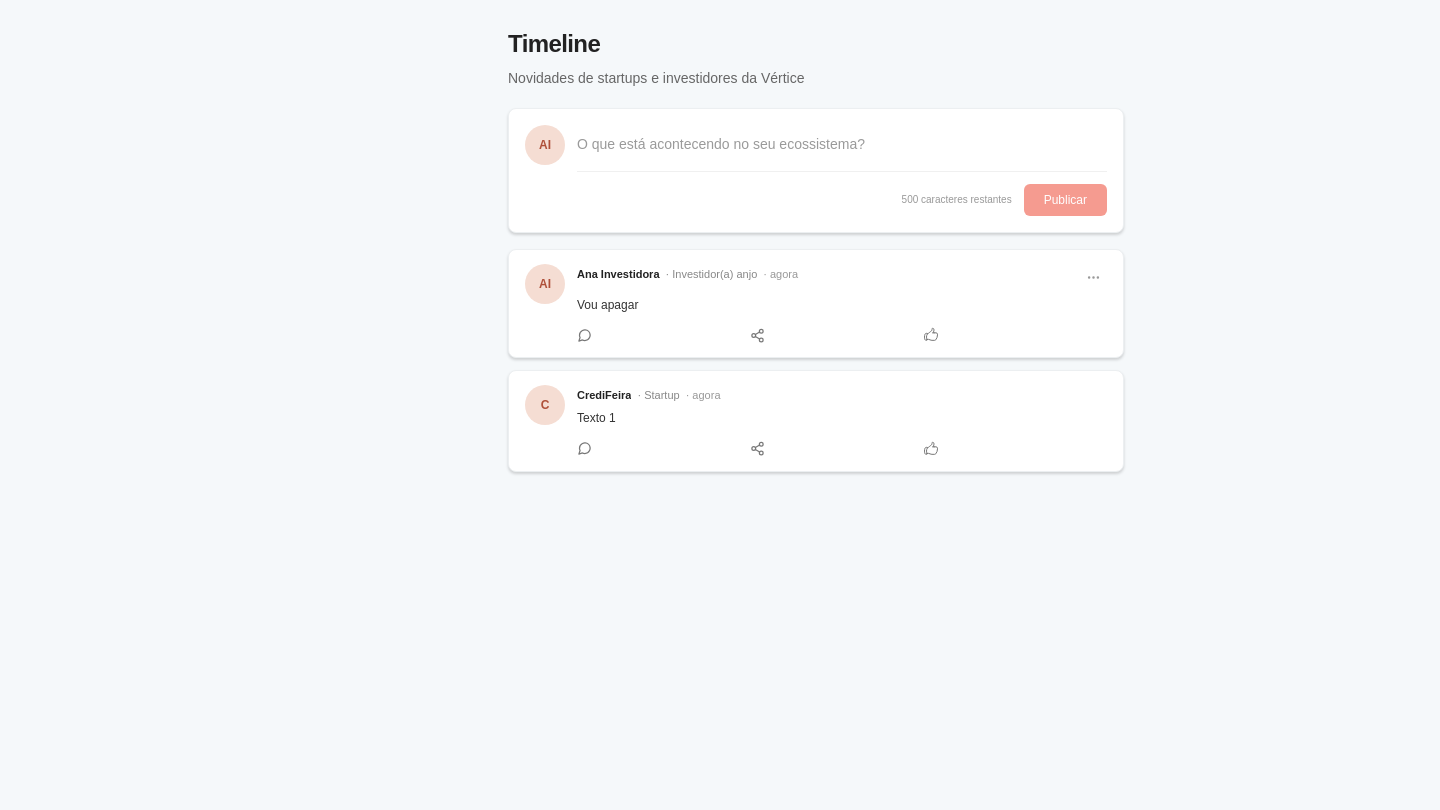
interações › exclui a própria publicação depois de confirmar
Click the button named "Mais opções".
click(1094, 277)  # box [1080,264,1107,291]
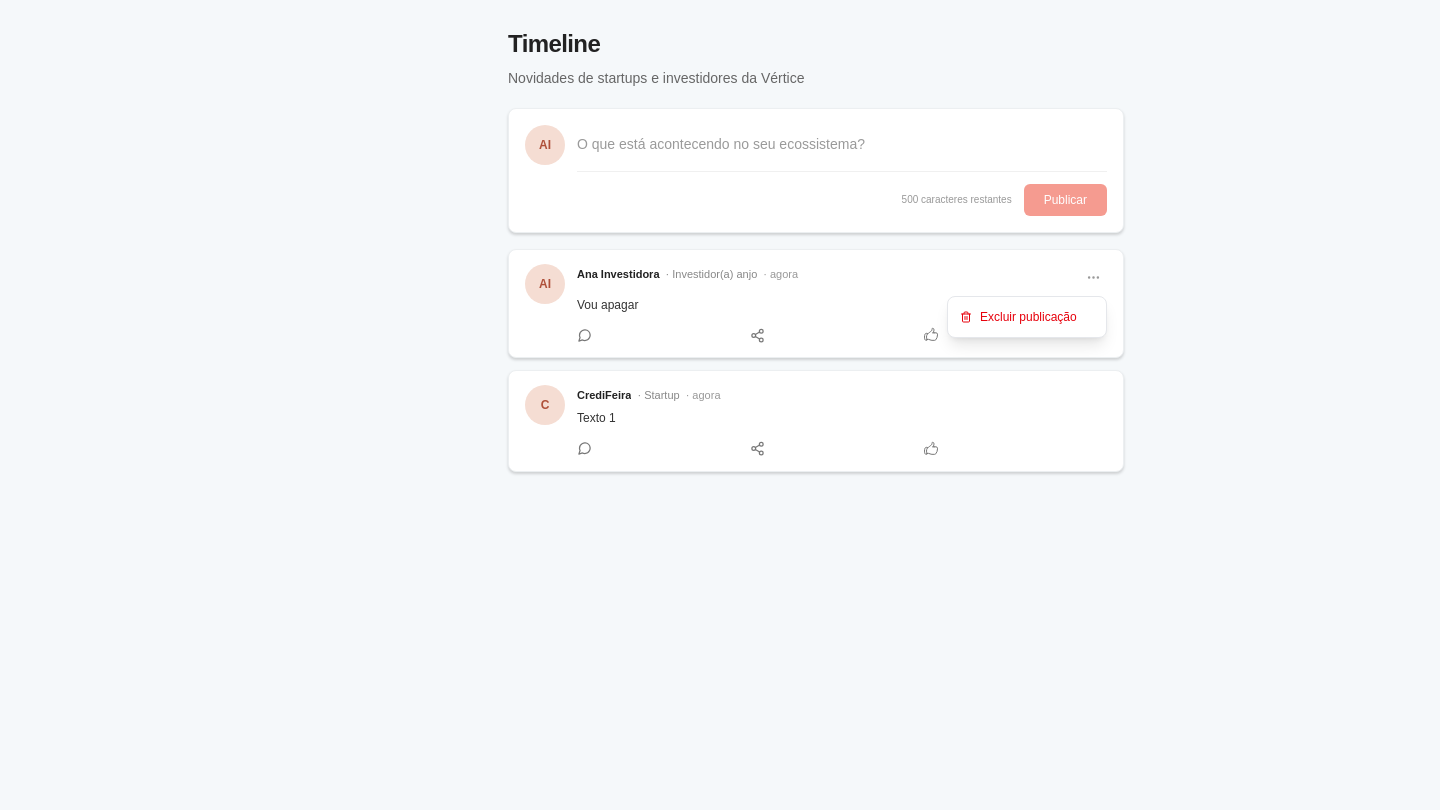
Click the menu item "Excluir publicação".
click(1027, 317)  # box [948,301,1106,333]
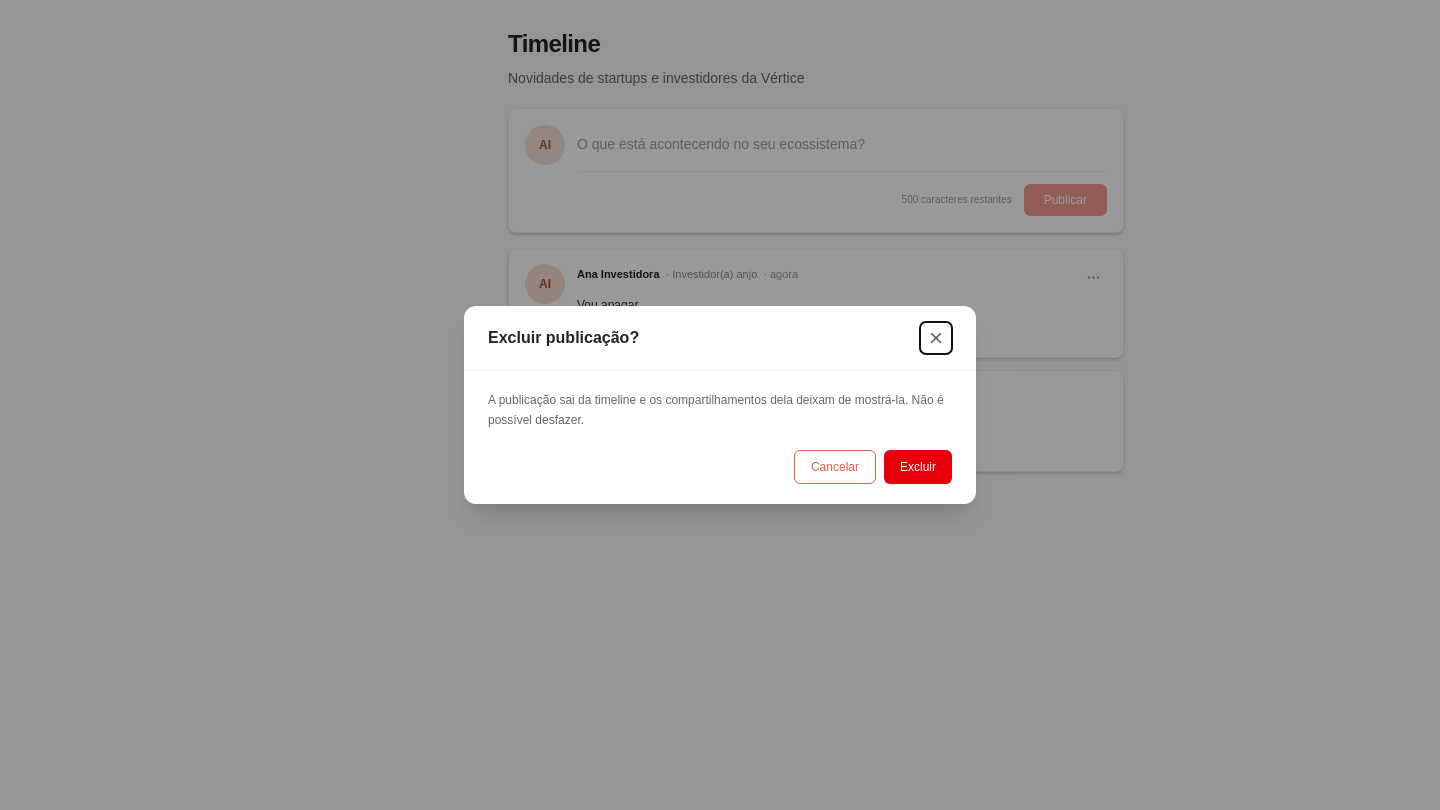
Click the button "Excluir".
click(918, 467)  # box [884,450,952,484]
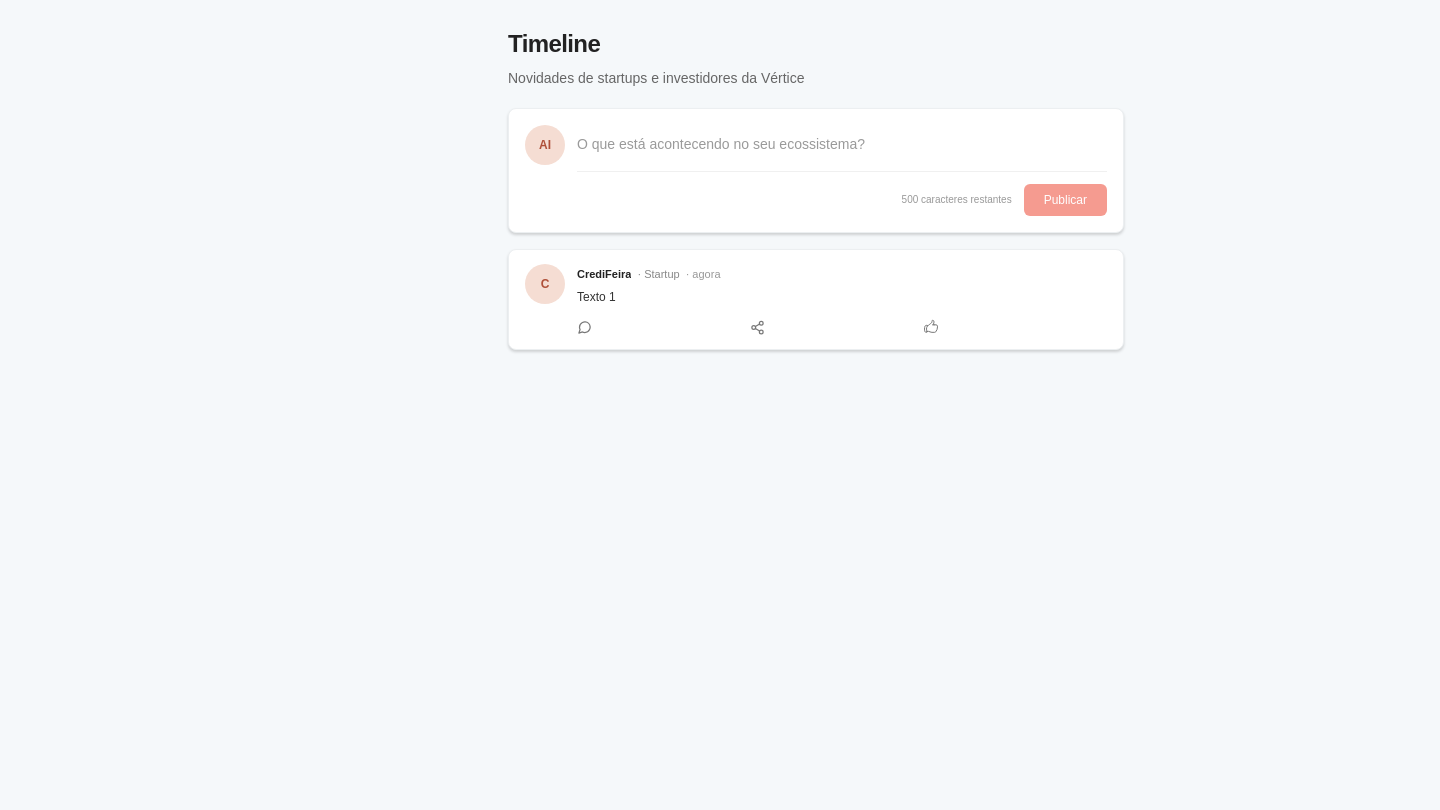
Check: the text "Vou apagar" is gone
